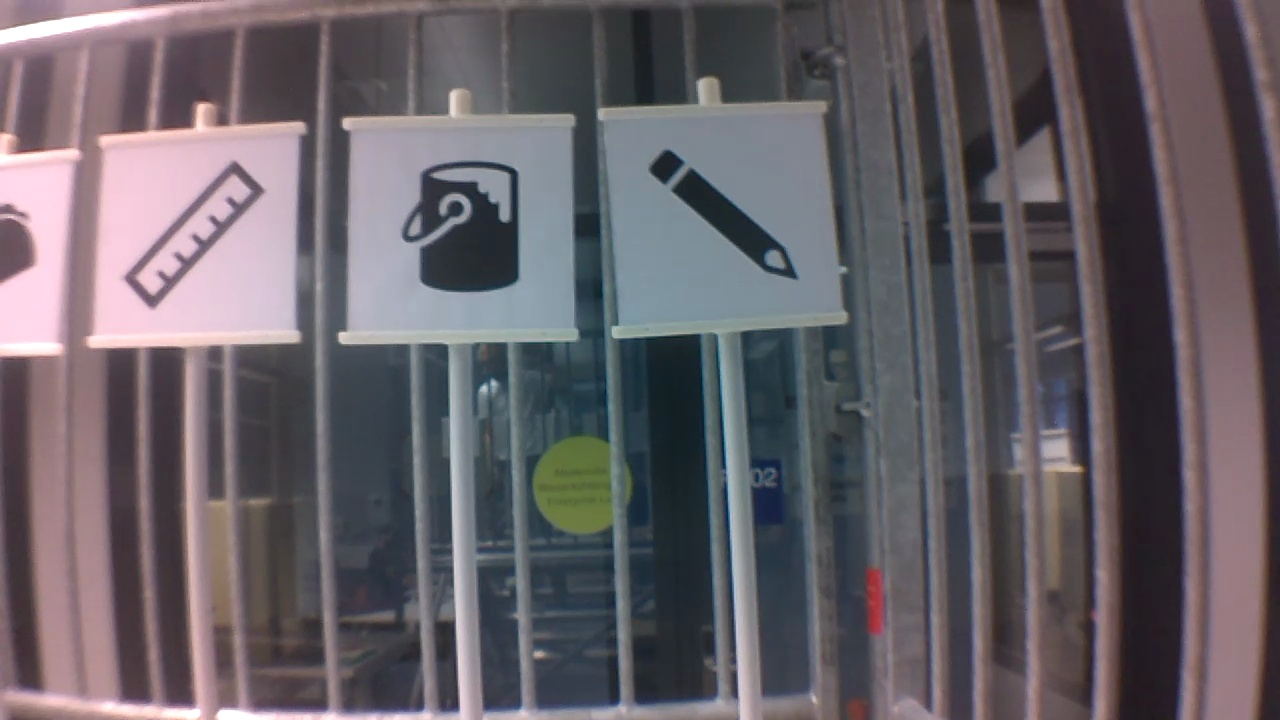bucket: (396, 156, 525, 297)
pencil: (638, 144, 807, 288)
ruler: (119, 153, 267, 314)
